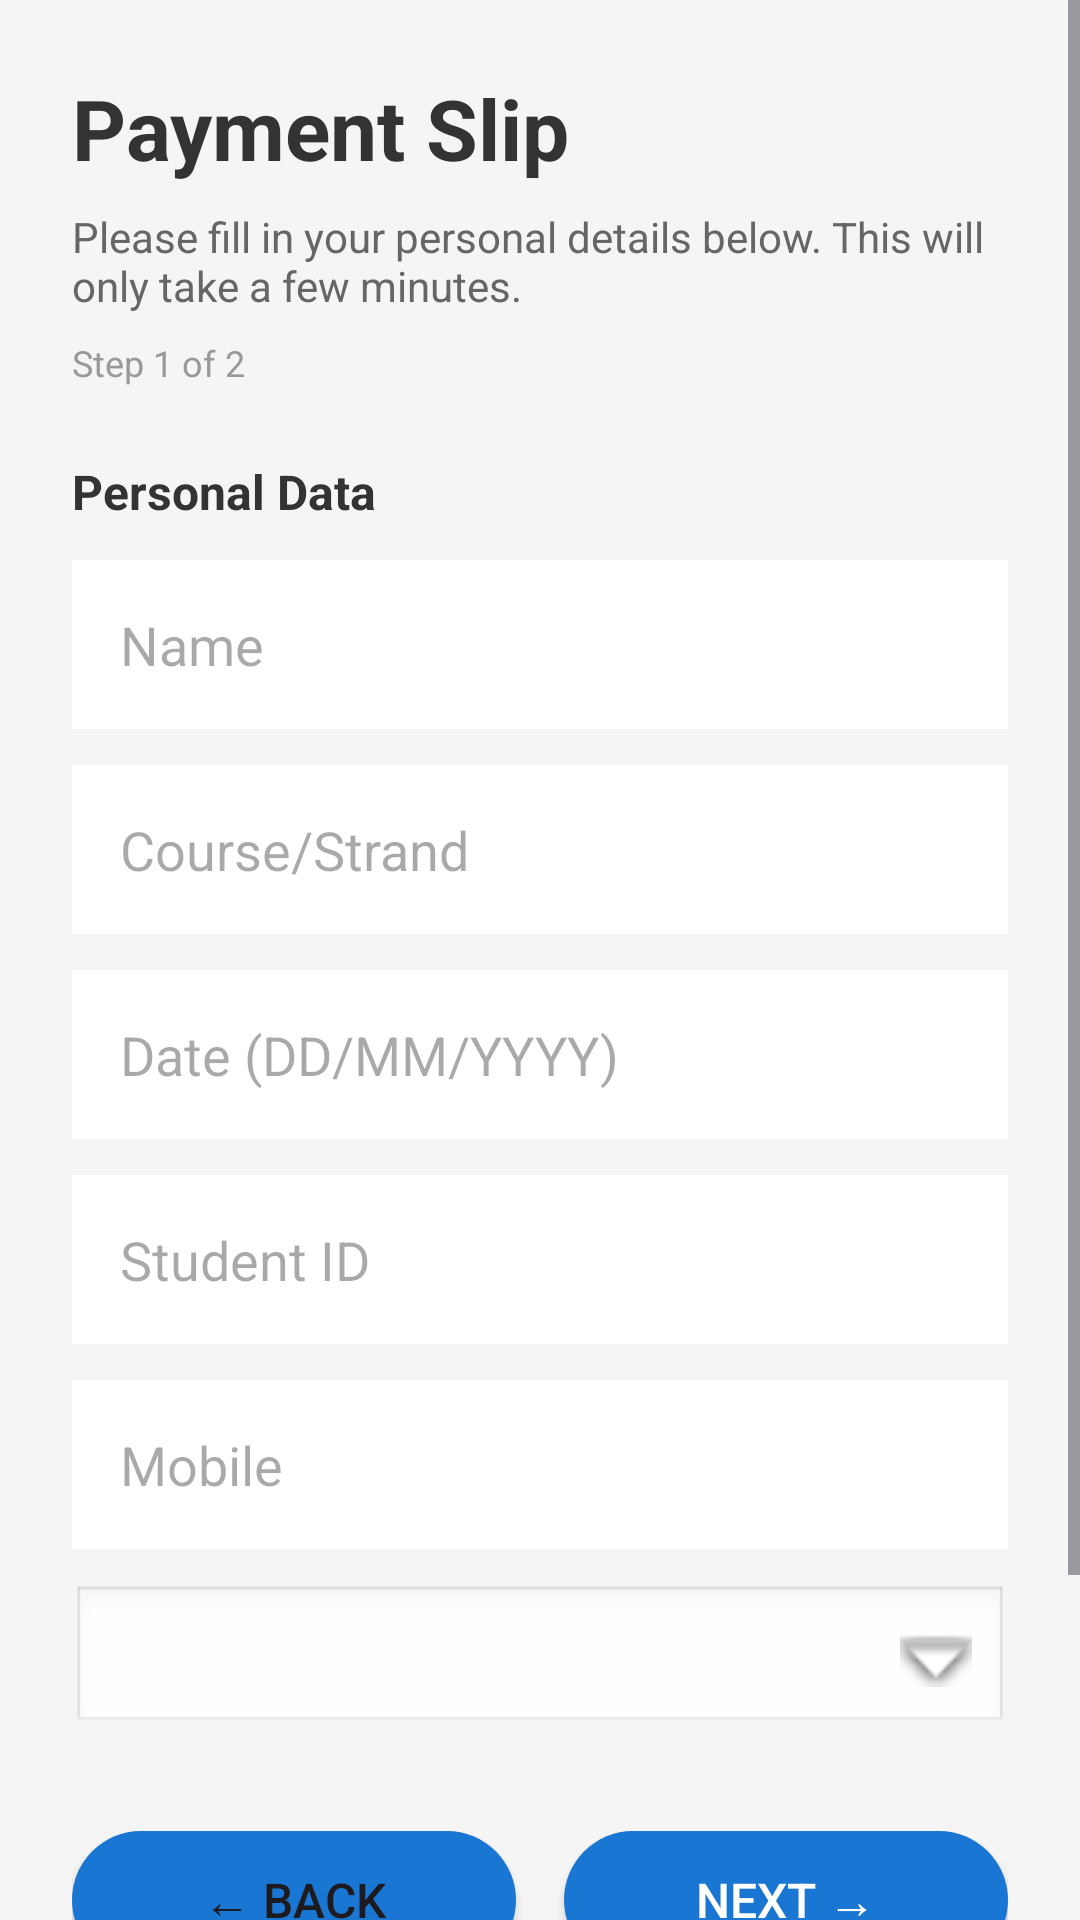

Where to tap for icons on this 1080x1920 app screen, as (x=x, y=y):
Dropdown arrow: (x=936, y=1660)
